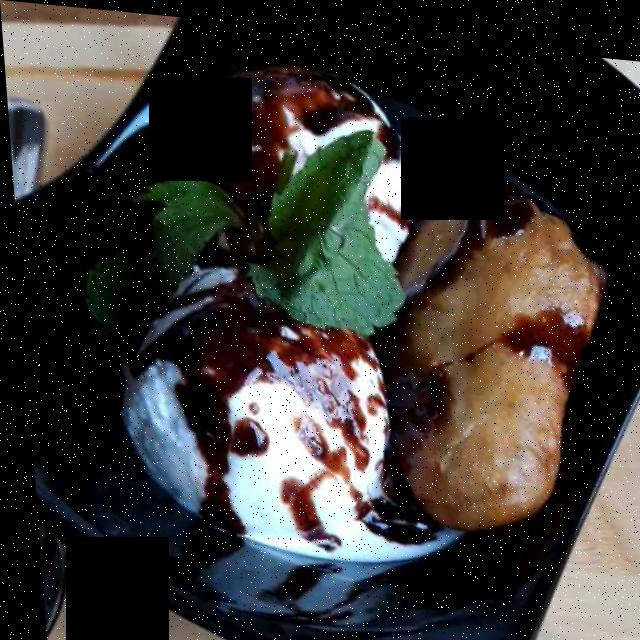dairy-ice-cream: (102, 63, 415, 612)
